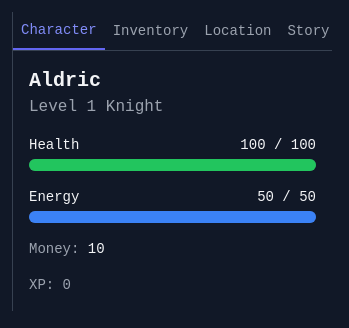
Test: Sidebar › switches to Location tab
This screenshot has width=349, height=328.
Click the button "Location" at (238,31), box 196,12 -> 280,50
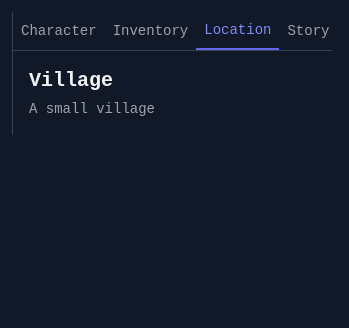
Now the heading "Village" is shown, box 29,69 -> 113,92
Now the text "A small village" is shown, box 29,101 -> 155,117
